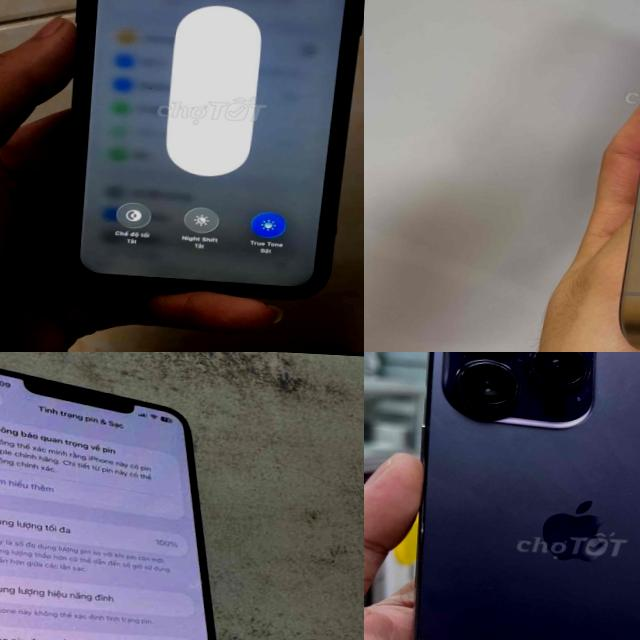gen_11: (68, 0, 364, 296), (0, 369, 215, 640)
gen_14: (380, 352, 640, 640)
